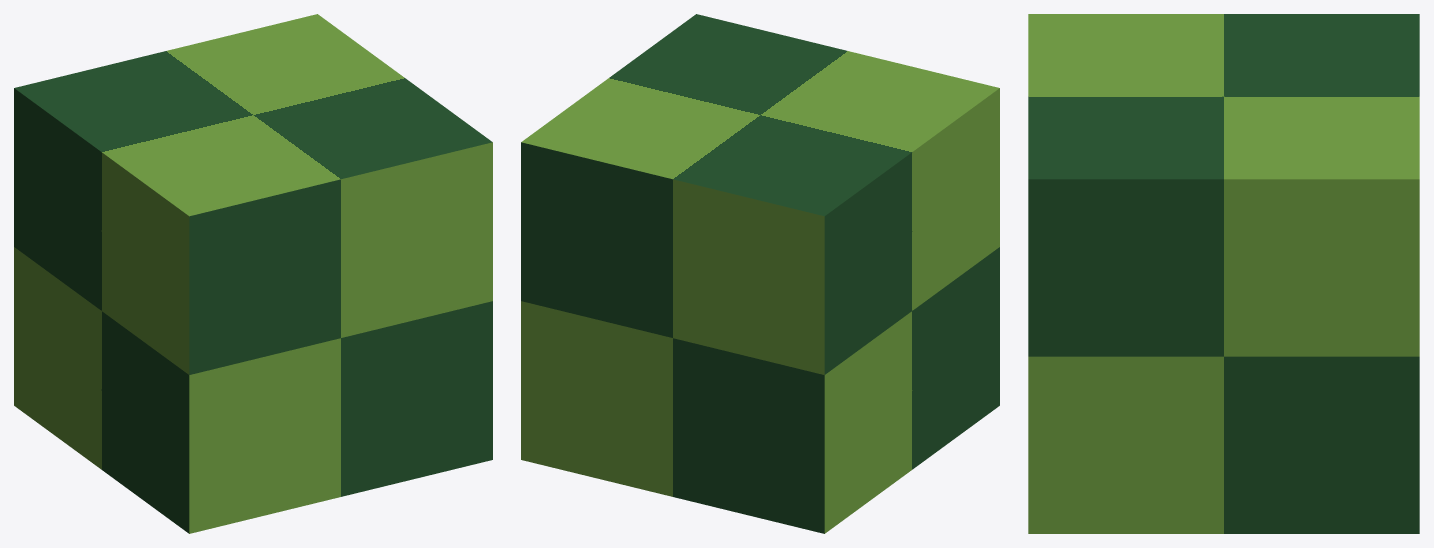
File: player.glb
3 views of the same model, side by side, from view 1: azimuth 30°, elevation 25°; view 2: azimuth 150°, elevation 25°; view 3: azimuth 270°, elevation 25° (orthographic). The views are drawn at different scales.
Parts seen in each view (by area): view 1: Cube; view 2: Cube; view 3: Cube.
Boxes of the visible parts, left/top/right/bottom form: Cube: left=14, top=14, right=492, bottom=533; Cube: left=521, top=14, right=999, bottom=533; Cube: left=1028, top=14, right=1419, bottom=533.
Bounding box in the file's own units: 1.6 × 1.6 × 1.6.
Materials: 1 (1 with a texture image).
